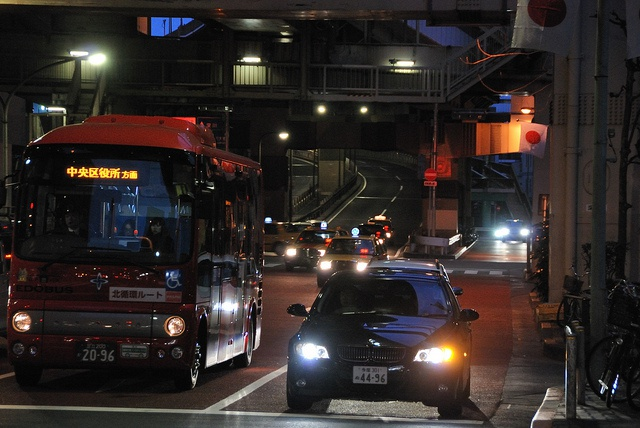non-vehicle: (583, 283, 640, 410), (556, 265, 591, 326)
